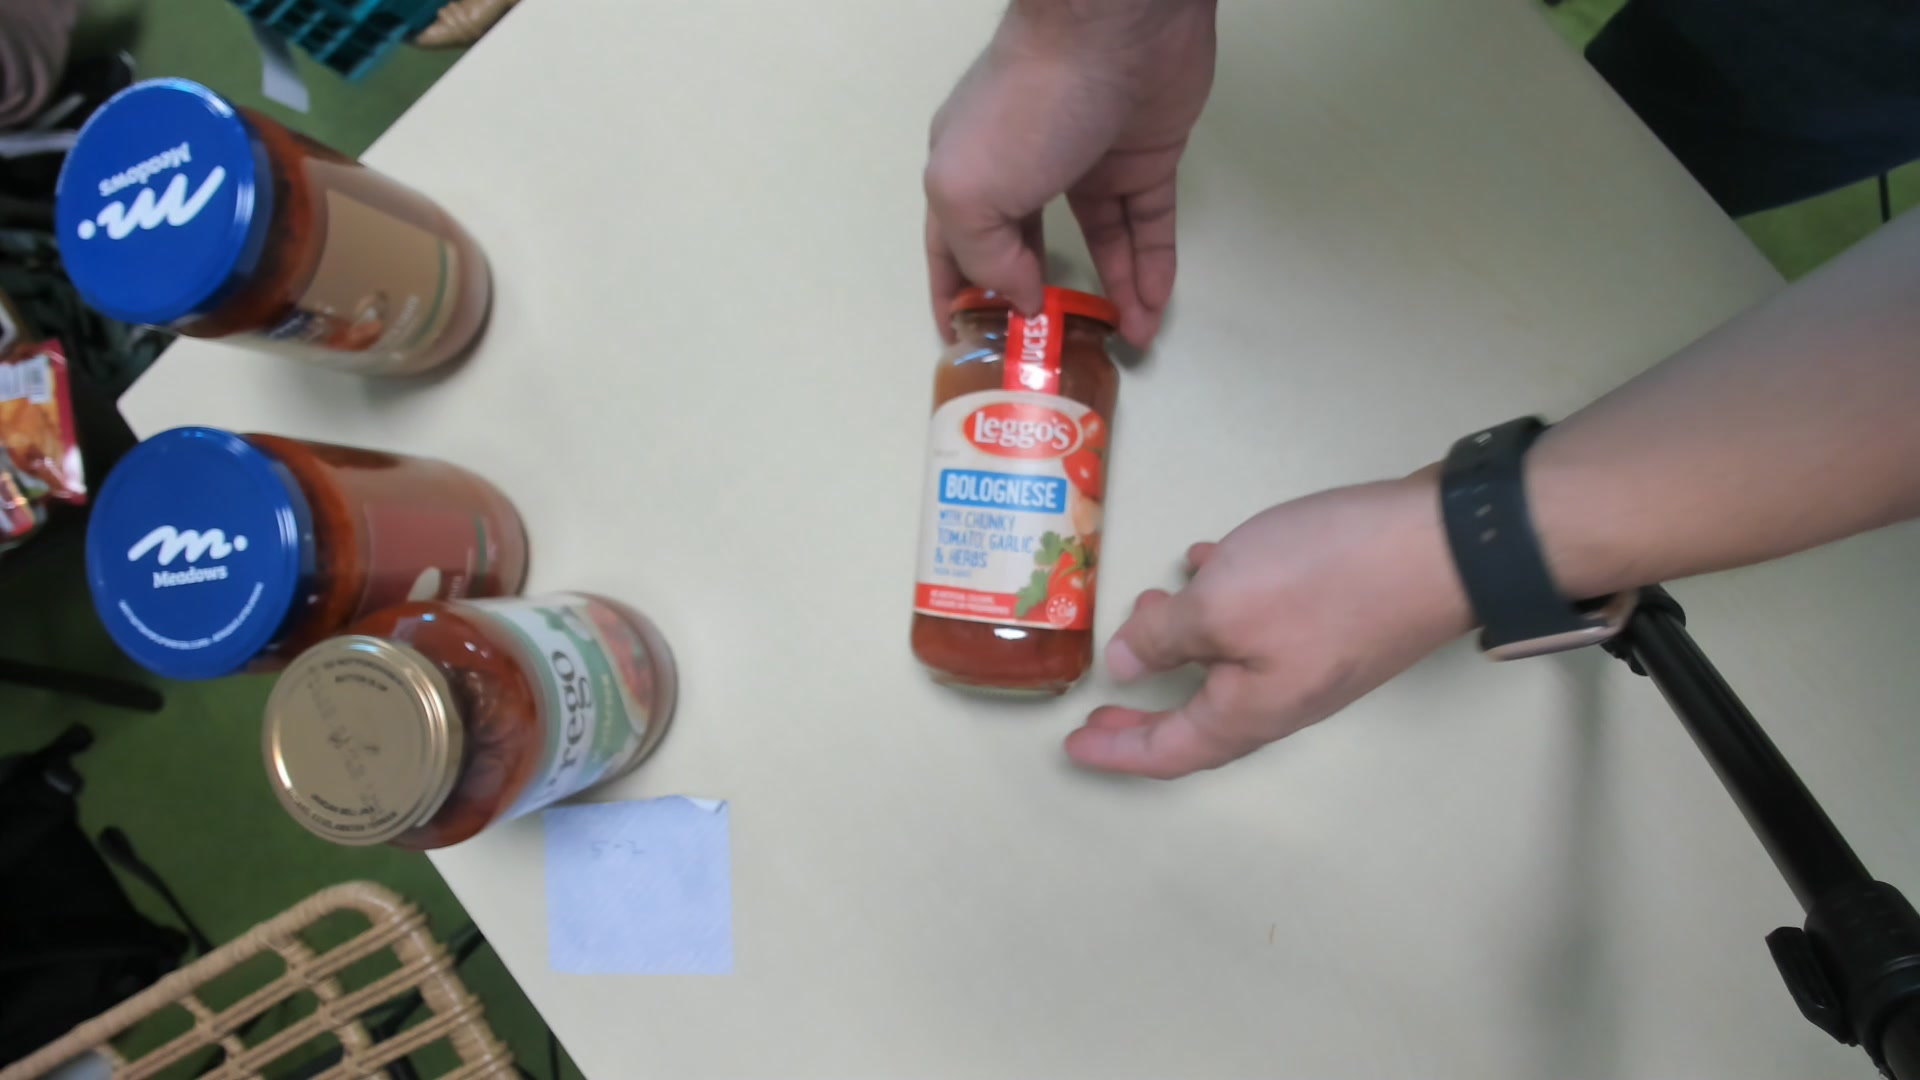PastaSauce_500-599g_Halal_NonHealthy: (916, 282, 1116, 695)
